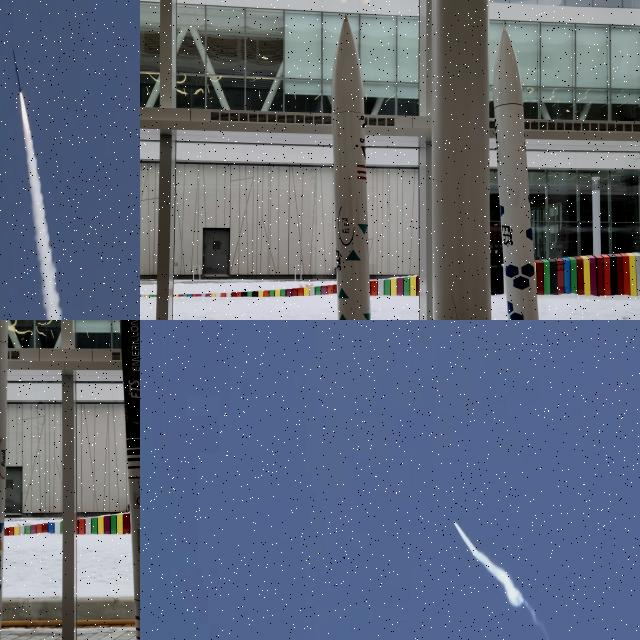Rocket: (493, 24, 540, 320), (332, 14, 371, 320), (120, 320, 140, 640), (12, 49, 23, 93), (452, 520, 454, 524)
